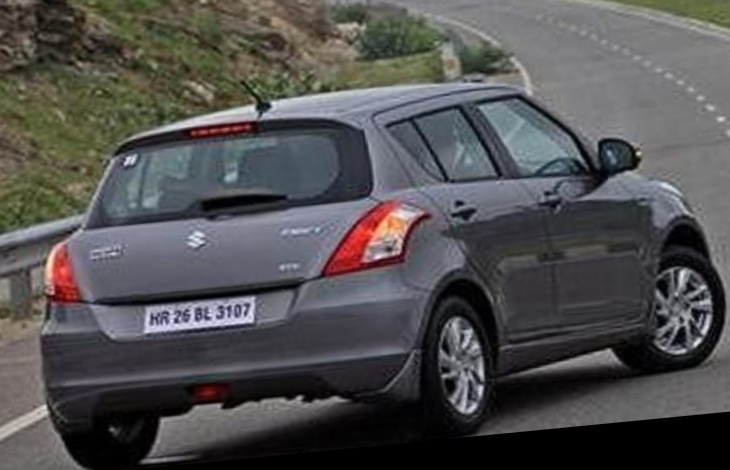car: (0, 24, 730, 470)
